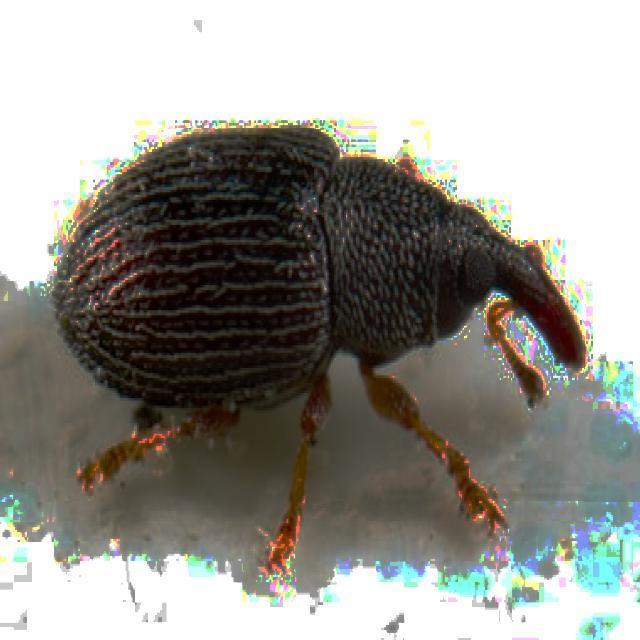rice-bug: (57, 129, 584, 571)
